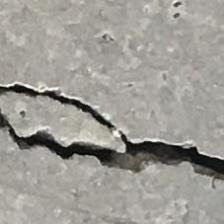Crack: (0, 75, 224, 190)
